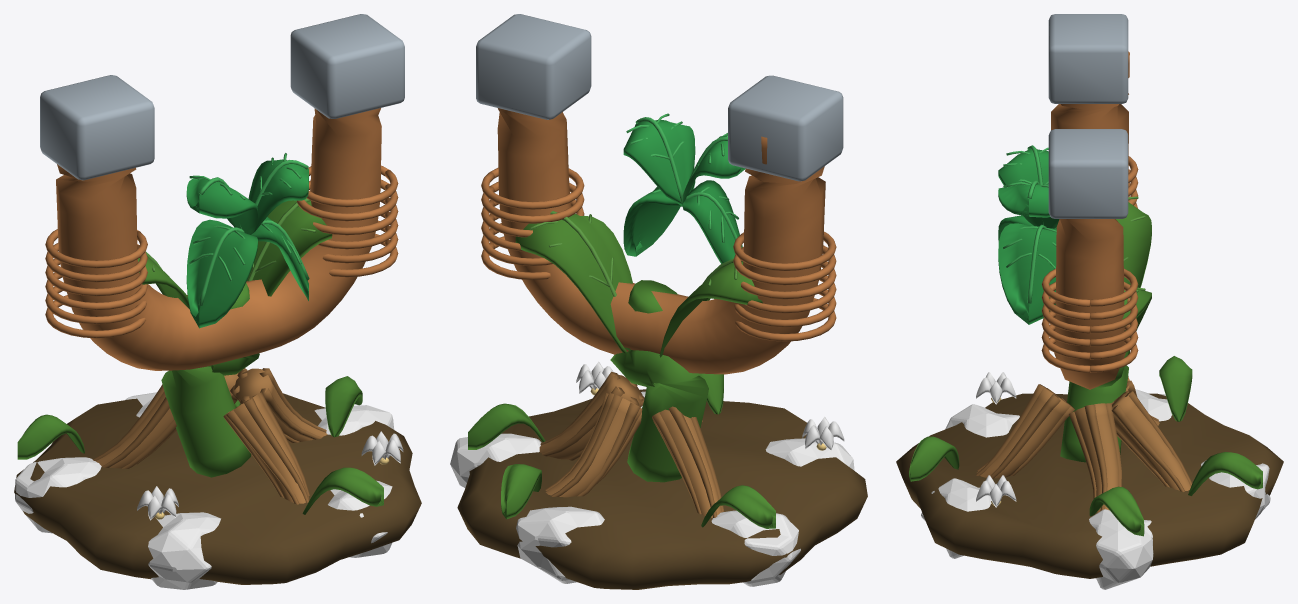
The model's file is magnet-1.fbx.
The picture shows the model from 3 angles, left to right: view 1: azimuth 30°, elevation 25°; view 2: azimuth 150°, elevation 25°; view 3: azimuth 270°, elevation 25°; orthographic projection. The views are drawn at different scales.
Parts seen in each view (by area): view 1: Barrel_Metal, magnet-1_Organic, Clover_PortalBamboo, Turret_PortalBamboo, Coils_Metal, magnet-1_Bark, magnet-1_Stone, magnet-1_PortalBamboo, magnet-1_Petal; view 2: Barrel_Metal, magnet-1_Organic, Turret_PortalBamboo, Clover_PortalBamboo, magnet-1_Bark, Coils_Metal, magnet-1_Stone, magnet-1_PortalBamboo, magnet-1_Petal; view 3: magnet-1_Organic, Barrel_Metal, magnet-1_Bark, Clover_PortalBamboo, magnet-1_Stone, Coils_Metal, magnet-1_PortalBamboo, Turret_PortalBamboo, magnet-1_Petal.
Part boxes in pixels (bbox=[...]): Barrel_Metal: bbox=[40, 14, 404, 370]; magnet-1_Organic: bbox=[14, 393, 421, 584]; Clover_PortalBamboo: bbox=[186, 153, 309, 328]; Turret_PortalBamboo: bbox=[138, 198, 332, 477]; Coils_Metal: bbox=[45, 165, 398, 338]; magnet-1_Bark: bbox=[92, 368, 327, 504]; magnet-1_Stone: bbox=[15, 392, 394, 589]; magnet-1_PortalBamboo: bbox=[17, 376, 383, 514]; magnet-1_Petal: bbox=[137, 431, 403, 520]; Barrel_Metal: bbox=[476, 14, 843, 374]; magnet-1_Organic: bbox=[457, 388, 867, 589]; Turret_PortalBamboo: bbox=[515, 211, 762, 482]; Clover_PortalBamboo: bbox=[623, 113, 745, 263]; magnet-1_Bark: bbox=[539, 371, 724, 517]; Coils_Metal: bbox=[481, 168, 836, 341]; magnet-1_Stone: bbox=[450, 391, 854, 586]; magnet-1_PortalBamboo: bbox=[468, 373, 775, 528]; magnet-1_Petal: bbox=[576, 361, 844, 451]; magnet-1_Organic: bbox=[896, 393, 1283, 578]; Barrel_Metal: bbox=[1048, 14, 1129, 389]; magnet-1_Bark: bbox=[976, 376, 1192, 512]; Clover_PortalBamboo: bbox=[998, 145, 1059, 324]; magnet-1_Stone: bbox=[921, 389, 1270, 589]; Coils_Metal: bbox=[1041, 156, 1138, 372]; magnet-1_PortalBamboo: bbox=[909, 356, 1262, 536]; Turret_PortalBamboo: bbox=[1060, 196, 1151, 462]; magnet-1_Petal: bbox=[976, 372, 1016, 507].
Size of the model in its own units: 82.25 by 102 by 82.7.
